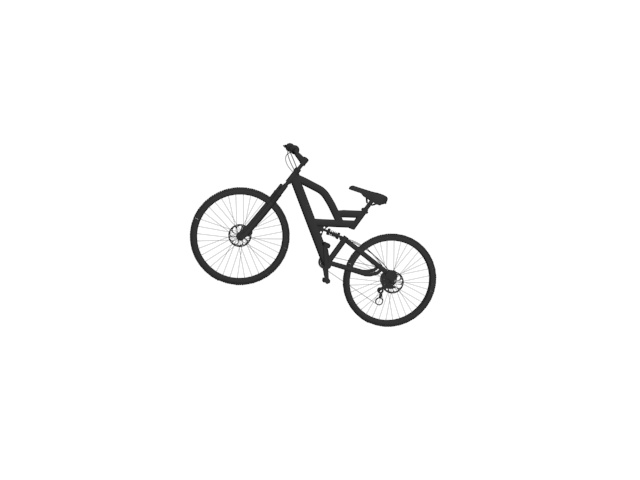bike: (185, 137, 440, 328)
